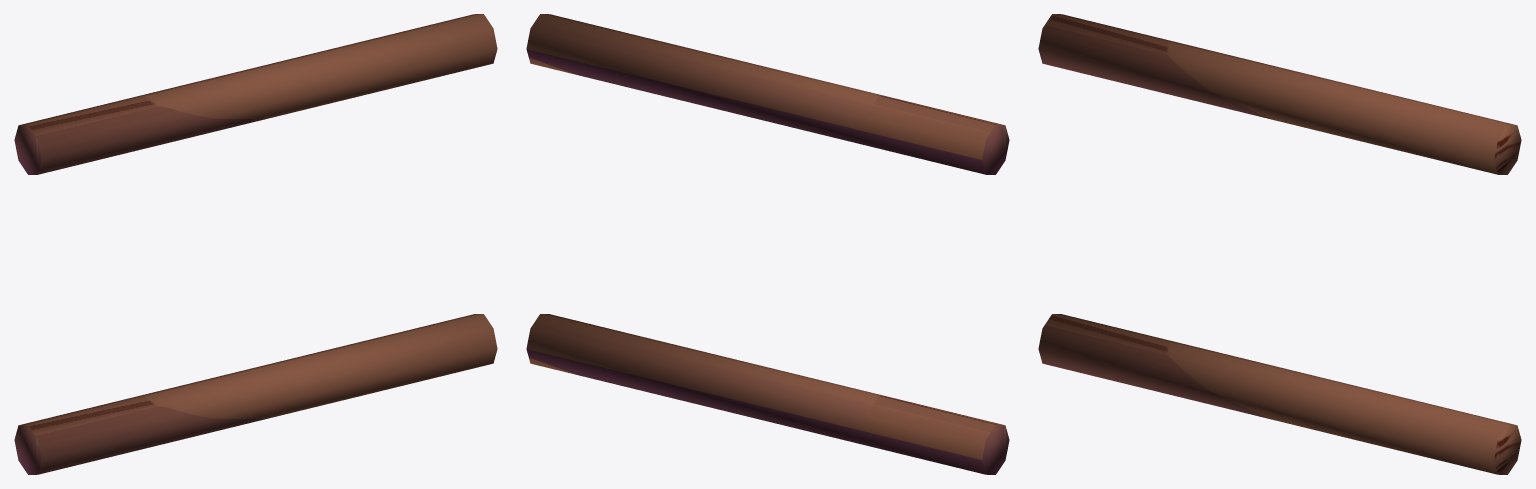
Rendered from FenceBar.fbx.
The picture shows the model from 3 angles, left to right: view 1: azimuth 30°, elevation 25°; view 2: azimuth 150°, elevation 25°; view 3: azimuth 330°, elevation 25°; orthographic projection.
Parts seen in each view (by area): view 1: Cylinder.002; view 2: Cylinder.002; view 3: Cylinder.002.
Boxes of the visible parts, x1=… form: Cylinder.002: x1=14, y1=14, x2=497, y2=474; Cylinder.002: x1=526, y1=14, x2=1009, y2=474; Cylinder.002: x1=1038, y1=14, x2=1521, y2=474.
Size of the model in its own units: 139 by 102 by 14.52.
1 material, 1 textured.
